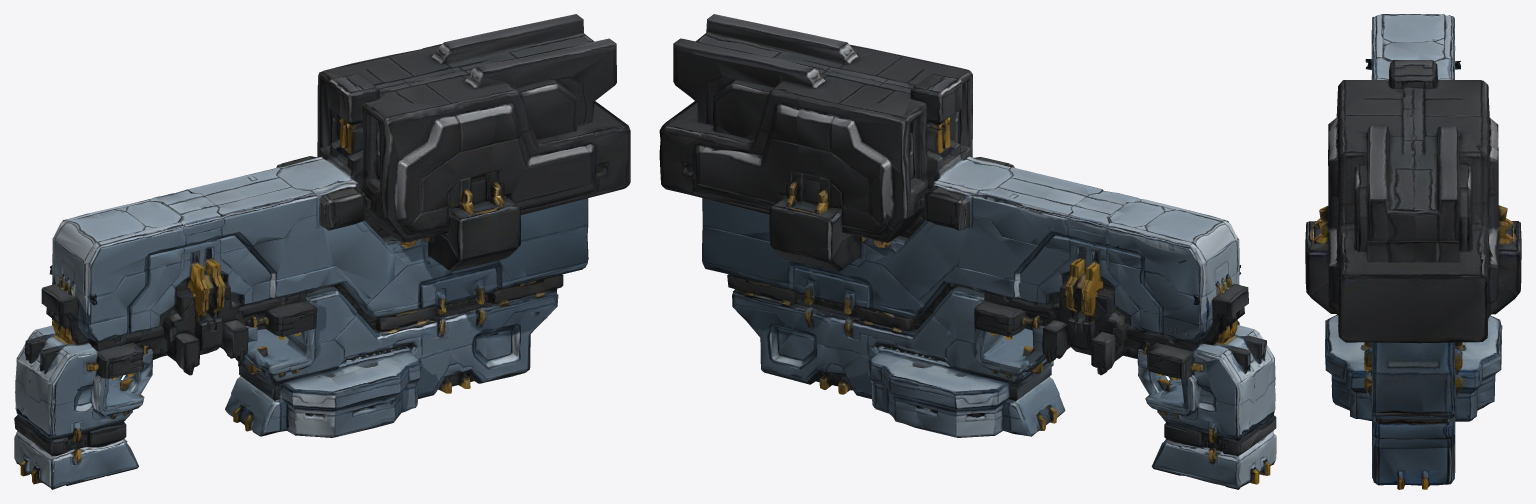
Rendered from HL_FAC_Garage_HeavyRectangular.glb.
The picture shows the model from 3 angles, left to right: view 1: azimuth 30°, elevation 25°; view 2: azimuth 150°, elevation 25°; view 3: azimuth 270°, elevation 25°; orthographic projection. The views are drawn at different scales.
Visible parts, largest first — view 1: body; view 2: body; view 3: body.
Boxes of the visible parts, box(x1,y1,x2,y2) form: body: box(14, 14, 630, 489); body: box(659, 14, 1276, 489); body: box(1305, 14, 1521, 489).
Size of the model in its own units: 0.9783 by 0.5224 by 0.301.
Materials: 1 (1 with a texture image).
